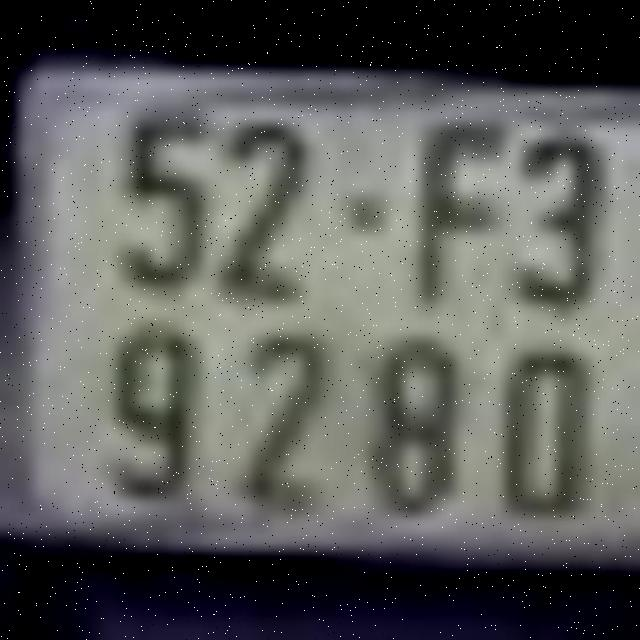0: (499, 340, 596, 523)
2: (220, 116, 311, 305), (243, 325, 330, 514)
3: (514, 126, 604, 316)
5: (123, 107, 210, 291)
8: (368, 328, 461, 520)
9: (110, 320, 196, 502)
F: (413, 114, 507, 310)
